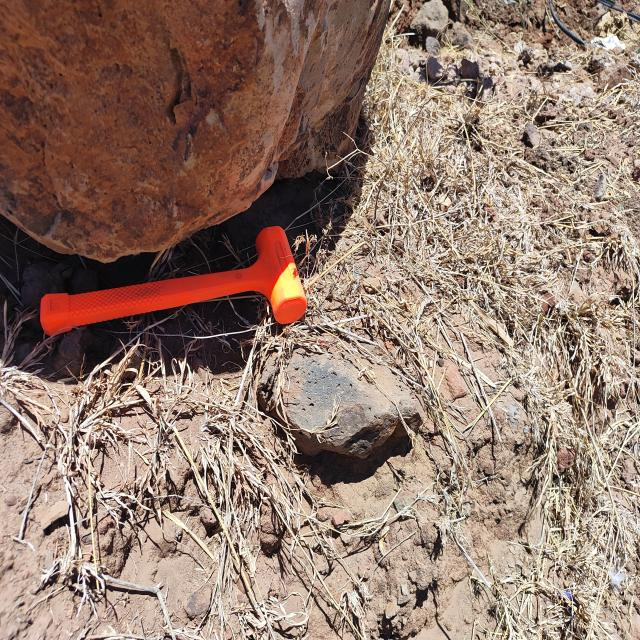Orange_hammer: (39, 224, 308, 337)
